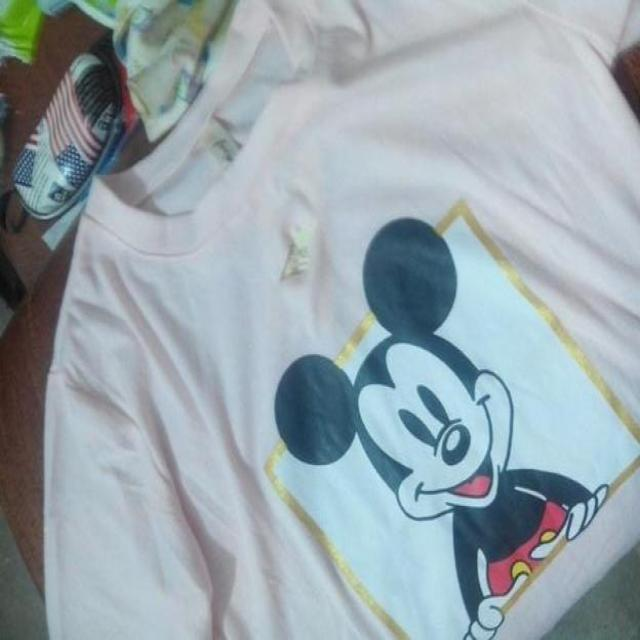short-sleeve-top: (42, 167, 640, 622)
